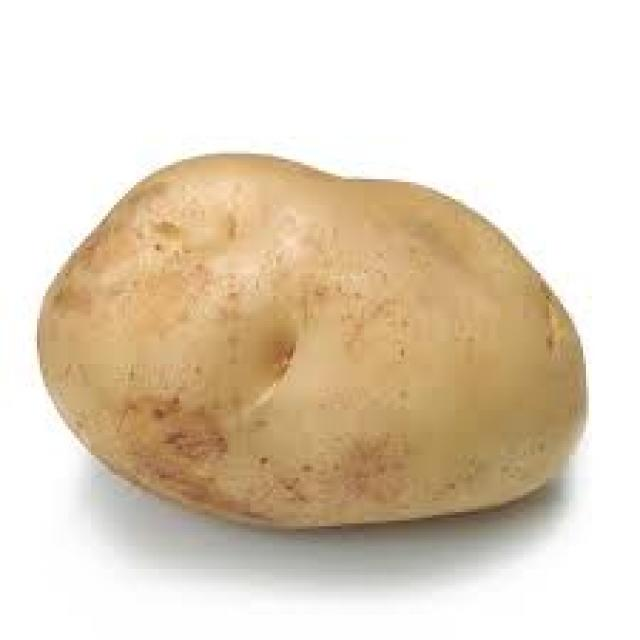Potato: (36, 156, 585, 528)
